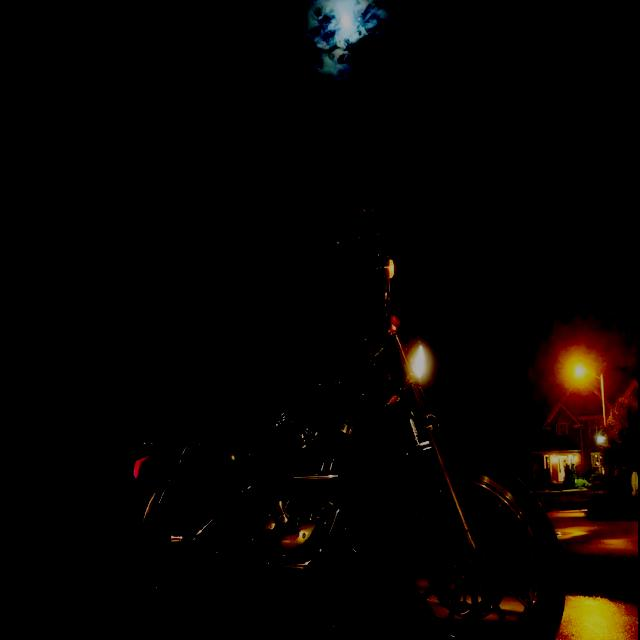Motorbike: (113, 192, 569, 640)
